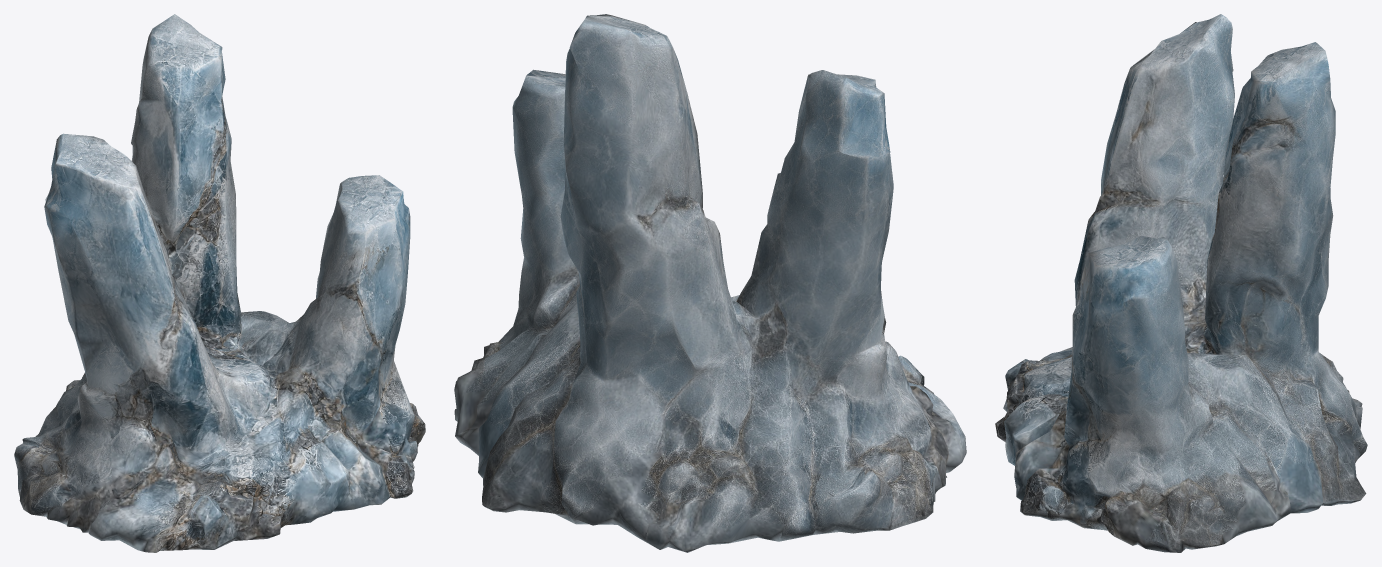
Rendered from AW-MOON-ICE-001-v0.2.glb.
3 views of the same model, side by side, from view 1: azimuth 30°, elevation 25°; view 2: azimuth 150°, elevation 25°; view 3: azimuth 270°, elevation 25° (orthographic). The views are drawn at different scales.
Parts seen in each view (by area): view 1: AW-MOON-ICE-001_meter_ground_pivot; view 2: AW-MOON-ICE-001_meter_ground_pivot; view 3: AW-MOON-ICE-001_meter_ground_pivot.
Part boxes in pixels (x1,y1,x2,y2): AW-MOON-ICE-001_meter_ground_pivot: [14, 14, 425, 552]; AW-MOON-ICE-001_meter_ground_pivot: [454, 14, 966, 552]; AW-MOON-ICE-001_meter_ground_pivot: [995, 14, 1367, 552].
Size of the model in its own units: 3.01 by 3 by 2.43.
1 material, 1 textured.
